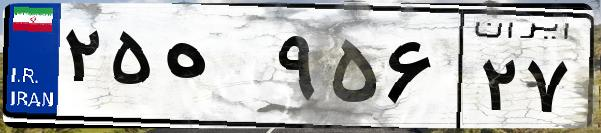2: (57, 26, 110, 100), (475, 38, 525, 113)
5: (330, 28, 385, 110), (110, 28, 158, 98)
6: (385, 28, 445, 110)
7: (525, 38, 570, 115)
9: (270, 28, 330, 110)
ه: (158, 20, 270, 120)
